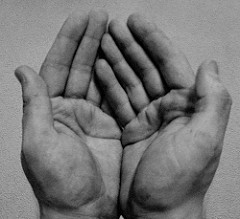palm: (41, 94, 117, 197), (126, 94, 198, 194)
